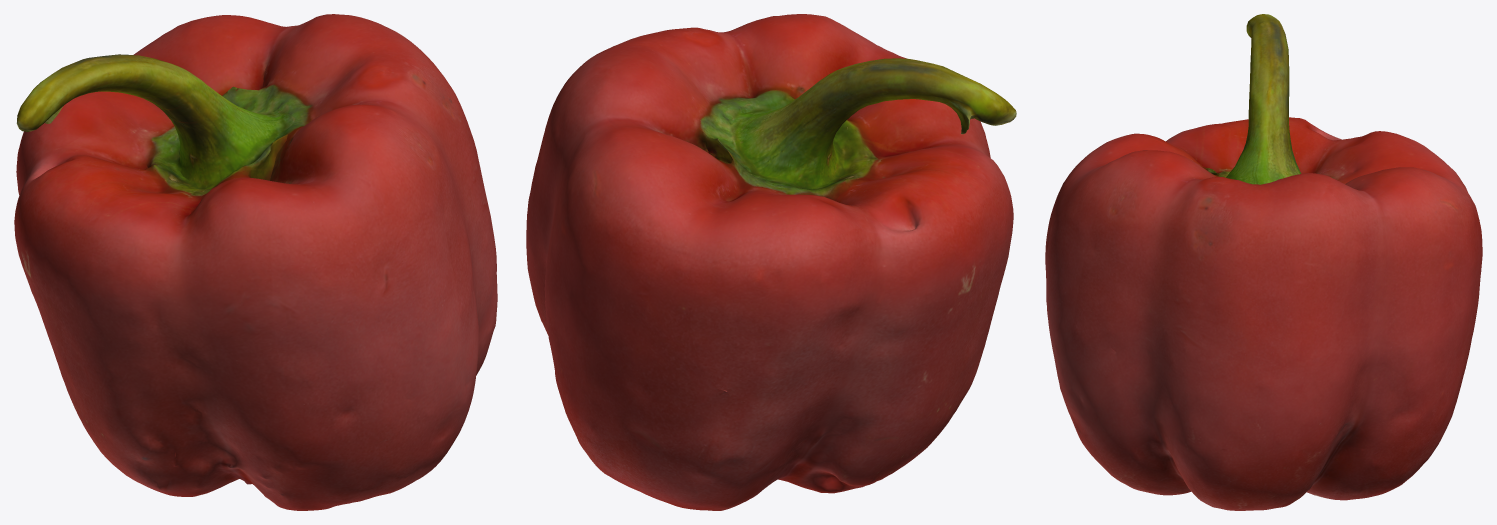
Rendered from paprika.glb.
The picture shows the model from 3 angles, left to right: view 1: azimuth 30°, elevation 25°; view 2: azimuth 150°, elevation 25°; view 3: azimuth 270°, elevation 25°; orthographic projection. The views are drawn at different scales.
Parts seen in each view (by area): view 1: Object_2; view 2: Object_2; view 3: Object_2.
Part boxes in pixels (box(x1,y1,x2,y2)): Object_2: box(14, 14, 497, 510); Object_2: box(526, 14, 1016, 510); Object_2: box(1045, 14, 1482, 510).
Bounding box in the file's own units: 0.1237 × 0.1125 × 0.1169.
Materials: 1 (1 with a texture image).
